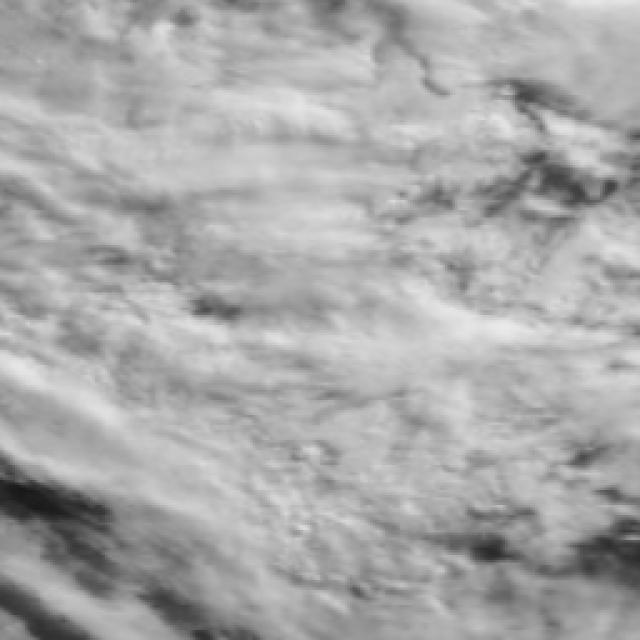CB: (168, 326, 414, 478), (162, 99, 384, 265), (21, 148, 152, 414), (423, 327, 632, 477)
